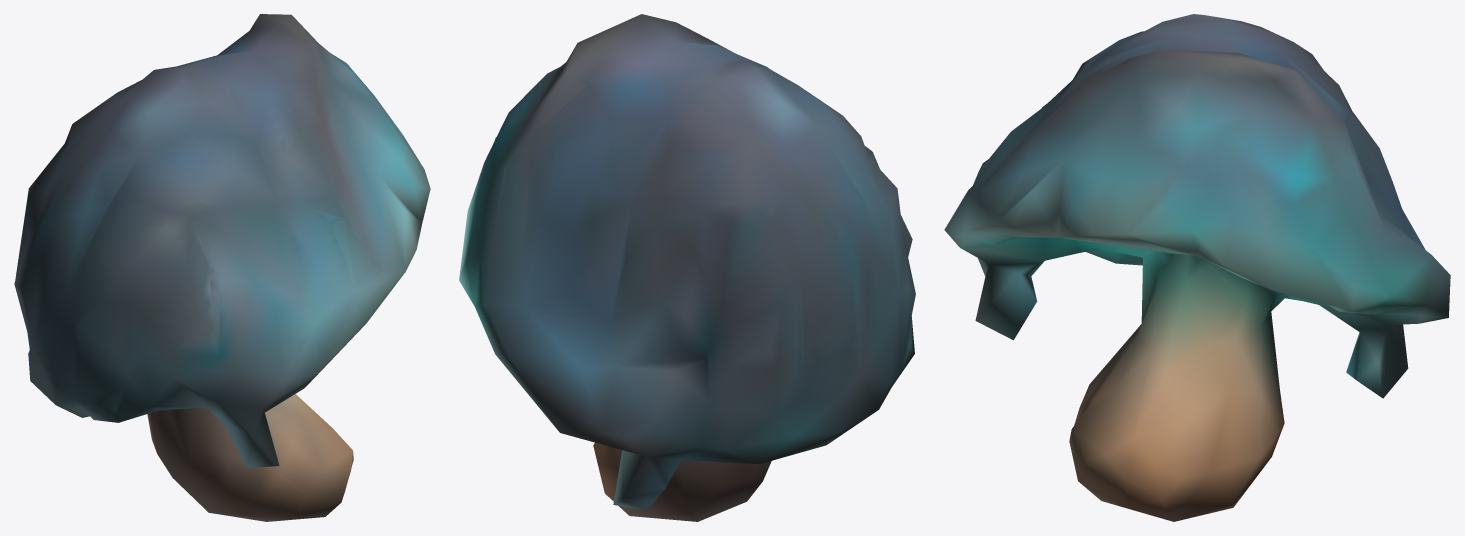
File: glowcap.glb
3 views of the same model, side by side, from view 1: azimuth 30°, elevation 25°; view 2: azimuth 150°, elevation 25°; view 3: azimuth 270°, elevation 25° (orthographic). The views are drawn at different scales.
Visible parts, largest first — view 1: model; view 2: model; view 3: model.
Boxes of the visible parts, <box> form: model: <box>14,14,430,521</box>; model: <box>459,14,915,521</box>; model: <box>944,14,1450,521</box>.
Bounding box in the file's own units: 0.3388 × 0.3974 × 0.3886.
Materials: 1 (1 with a texture image).
